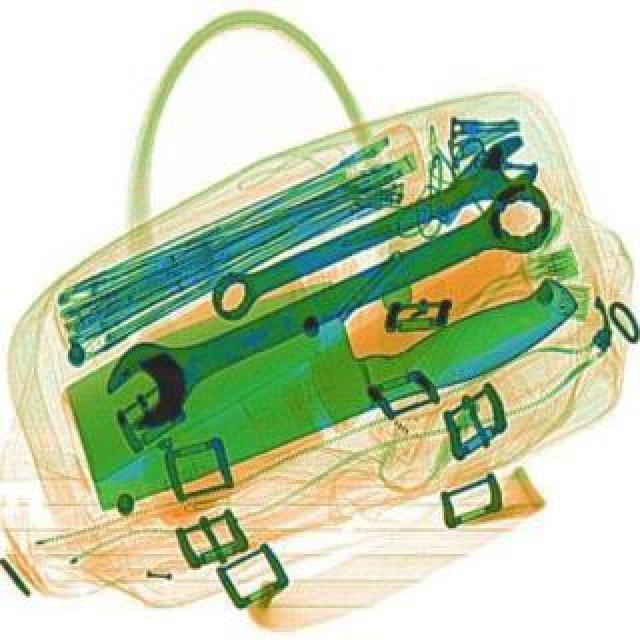knife: (40, 192, 588, 516)
scissors: (88, 170, 572, 434), (198, 128, 546, 328)
